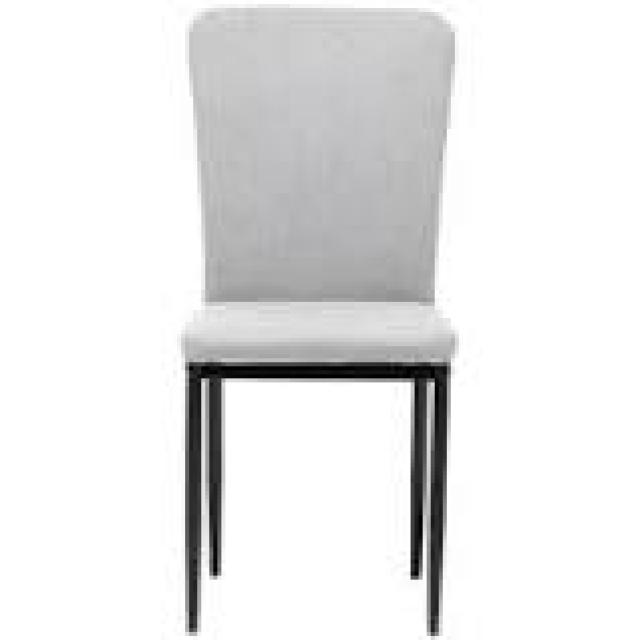bottle: (185, 1, 459, 640)
